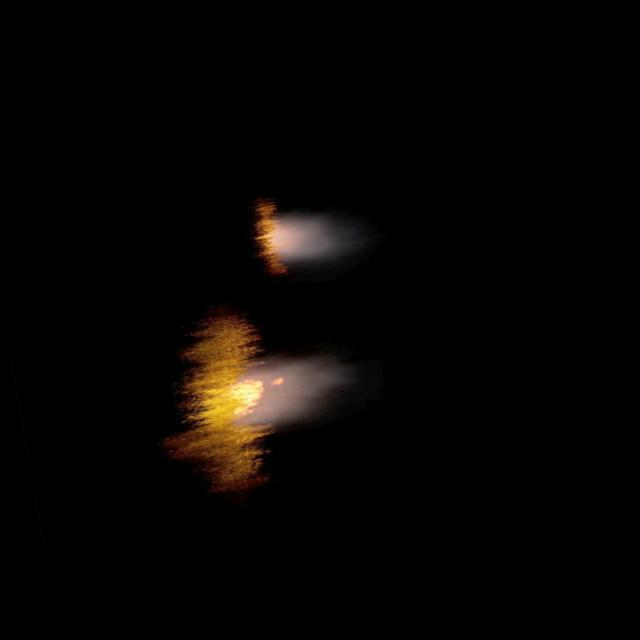fire: (220, 374, 288, 424)
smoke: (222, 352, 344, 433), (262, 205, 334, 268)
